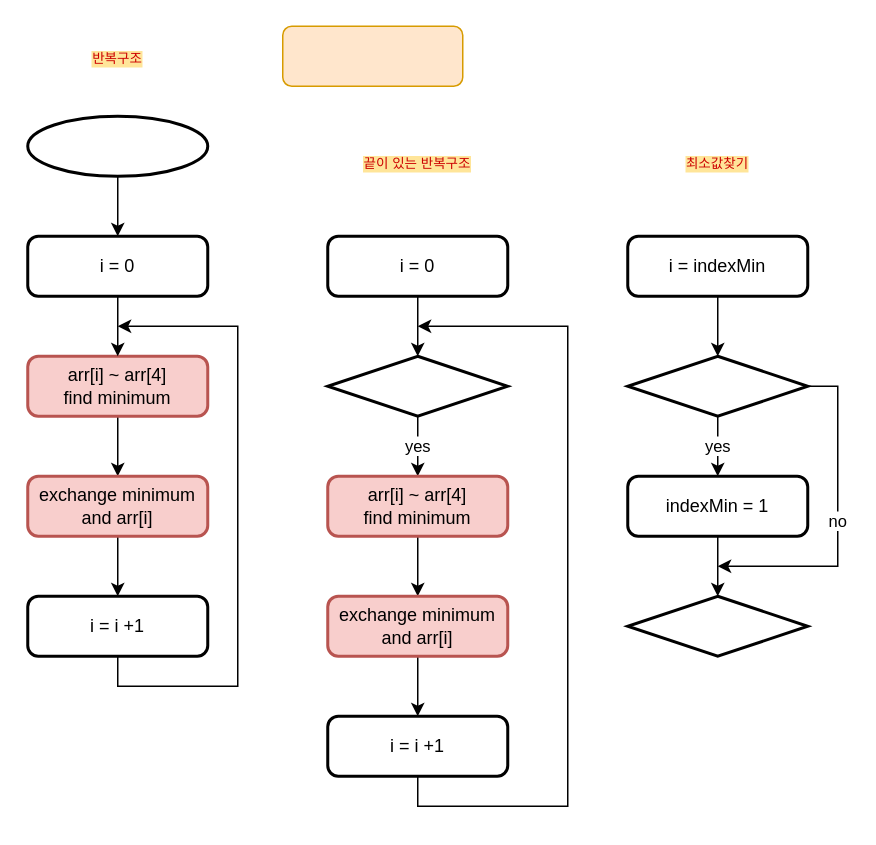
The diagram is 876 pixels wide and 845 high, and some of its shapes have lost their labels. The centre of each missing label's shape, as x and y in pixels:
arr[1] < arr[indexMin]: pixel 717 385
arr[2]<arr[indexMin]: pixel 717 625
i < len(arr): pixel 417 385
strat: pixel 117 145
정렬 - 단순선택법: pixel 372 55
